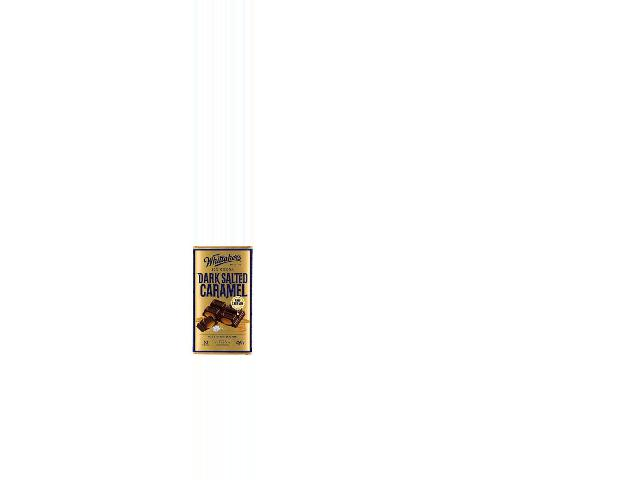chocolate: (190, 247, 257, 357)
